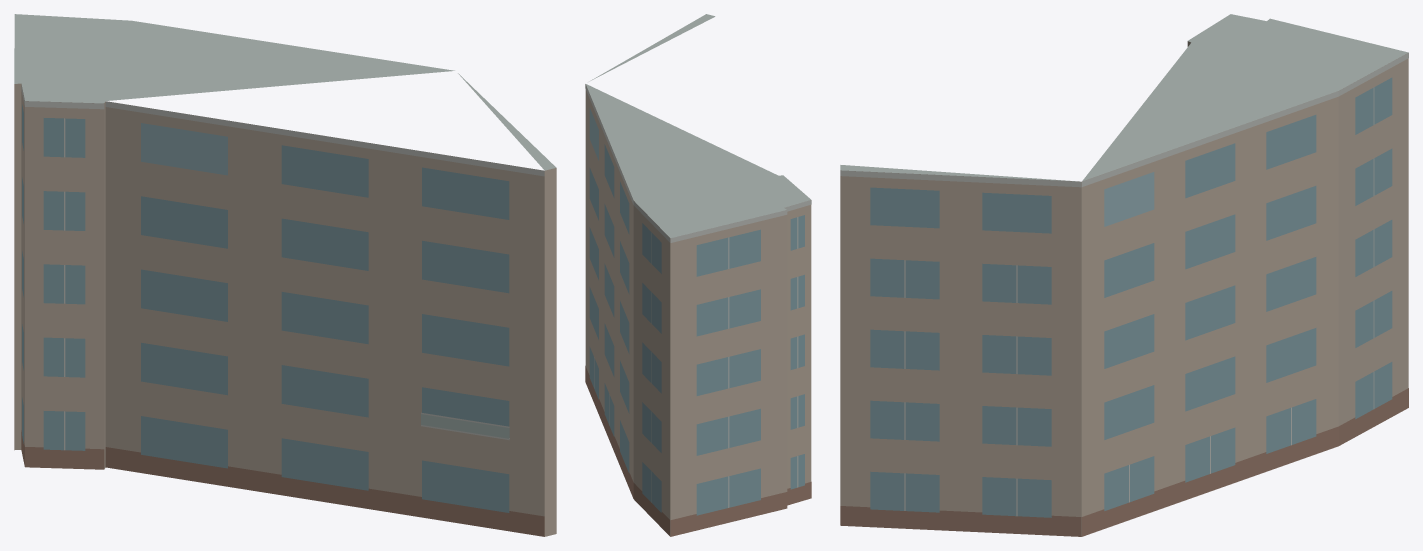
File: survey-upis-32988557.glb
The picture shows the model from 3 angles, left to right: view 1: azimuth 30°, elevation 25°; view 2: azimuth 150°, elevation 25°; view 3: azimuth 270°, elevation 25°; orthographic projection. The views are drawn at different scales.
Visible parts, largest first — view 1: survey-upis-32988557.tmp; view 2: survey-upis-32988557.tmp; view 3: survey-upis-32988557.tmp.
Part boxes in pixels (x1,y1,x2,y2): survey-upis-32988557.tmp: (14,14,556,536); survey-upis-32988557.tmp: (585,14,811,536); survey-upis-32988557.tmp: (840,14,1408,536).
Bounding box in the file's own units: 15.43 × 15.25 × 22.12.
